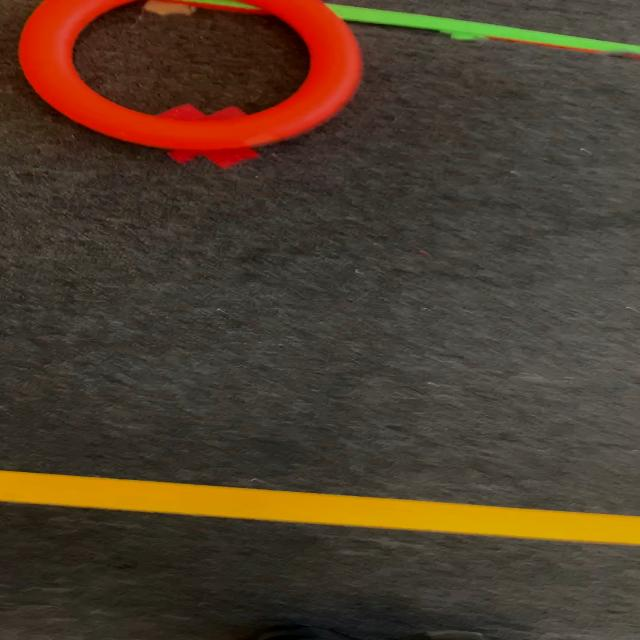notes: (15, 0, 361, 149)
